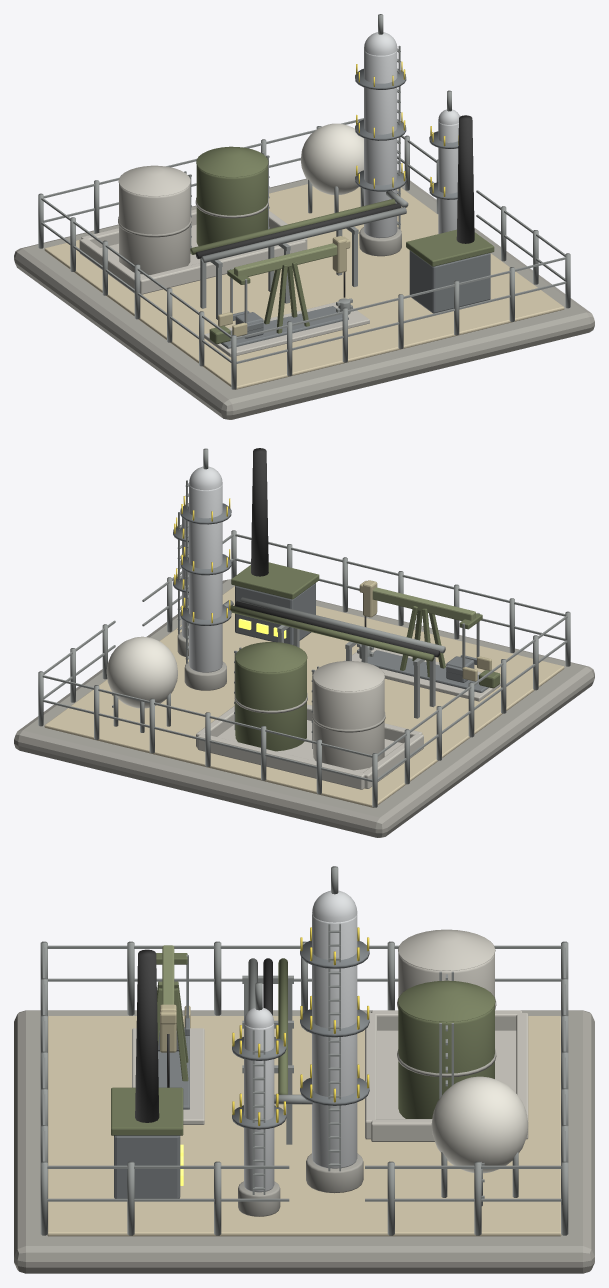
File: oilwell_8.glb
3 renders of one model, top to bottom at view 1: azimuth 30°, elevation 25°; view 2: azimuth 150°, elevation 25°; view 3: azimuth 270°, elevation 25°, orthographic. The views are drawn at different scales.
Visible parts, largest first — view 1: Cube.001, Cube, Cylinder.002, Cylinder.010, Cylinder.004, Sphere.003, Cube.076, Cube.024, Cone.002, Cylinder.041, Cube.077, Cone (+15 smaller); view 2: Cube.001, Cube, Cylinder.010, Cylinder.004, Cylinder.002, Sphere.003, Cube.023, Cone.002, Cube.076, Cube.077, Cone, Cone.001 (+15 smaller); view 3: Cube.001, Cube, Cylinder.010, Sphere.003, Cylinder.004, Cylinder.041, Cube.076, Cone.002, Cone, Cone.001, Cube.022, Cube.077 (+37 smaller).
Boxes of the visible parts, x1,y1,x2,y2 form: Cube.001: (44, 184, 564, 389); Cube: (14, 178, 594, 419); Cylinder.002: (119, 184, 190, 274); Cylinder.010: (364, 50, 397, 238); Cylinder.004: (196, 165, 267, 245); Sphere.003: (300, 123, 363, 194); Cube.076: (409, 250, 490, 313); Cube.024: (140, 239, 305, 294); Cone.002: (456, 115, 474, 243); Cylinder.041: (438, 121, 458, 233); Cube.077: (406, 229, 494, 266); Cone: (118, 165, 190, 196); Cube.001: (44, 586, 564, 807); Cube: (14, 579, 594, 837); Cylinder.010: (189, 484, 222, 672); Cylinder.004: (235, 660, 306, 751); Cylinder.002: (313, 679, 384, 770); Sphere.003: (106, 636, 177, 708); Cube.023: (197, 734, 364, 789); Cone.002: (251, 448, 268, 576); Cube.076: (235, 583, 315, 645); Cube.077: (231, 562, 319, 599); Cone: (312, 661, 384, 691); Cone.001: (235, 642, 307, 672); Cube.001: (47, 1016, 561, 1236); Cube: (14, 1010, 594, 1273); Cylinder.010: (312, 914, 357, 1168); Sphere.003: (431, 1076, 528, 1173); Cylinder.004: (398, 1004, 494, 1118); Cylinder.041: (244, 1023, 274, 1192); Cube.076: (114, 1135, 180, 1198); Cone.002: (135, 949, 159, 1122); Cone: (398, 929, 495, 970); Cone.001: (398, 980, 495, 1022); Cube.022: (377, 1030, 516, 1118); Cube.077: (111, 1087, 183, 1135).
Bounding box in the file's own units: 1.92 × 1.26 × 1.92.
